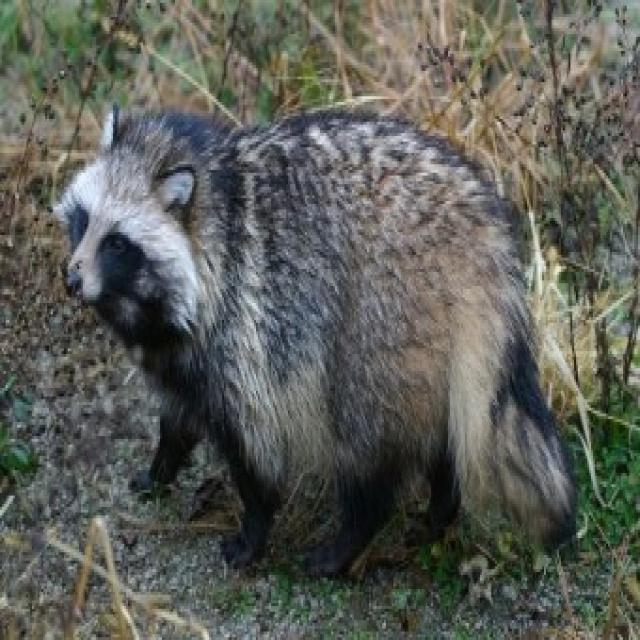racoon: (61, 94, 591, 570)
